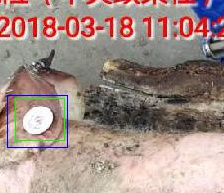text: (15, 98, 64, 140)
